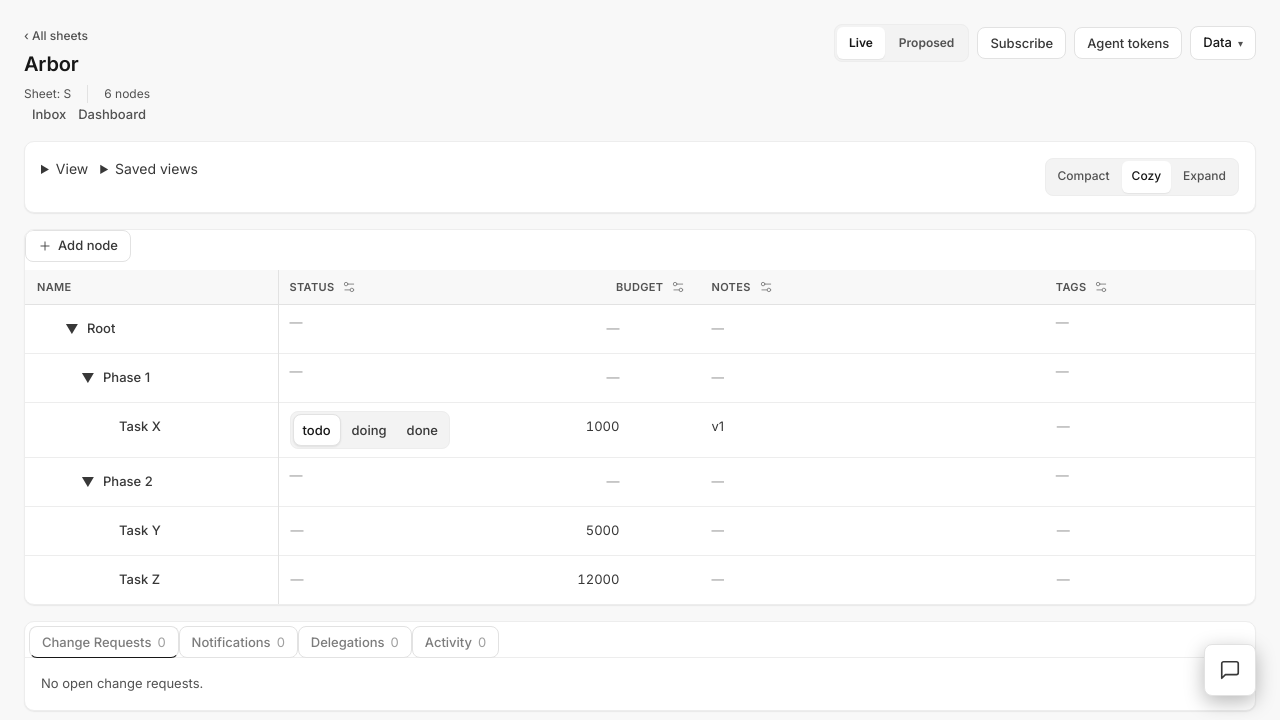
it: authoritative Outcome wins over client prediction (WEB_UI-020/-021/-086) › owners_must_use_change_requests → an owner's edit renders suggested to self (WEB_UI-021)
Expected: the table with test id "tree-table" is shown, [25,270,1255,604]
Click the element with test id "cell" showing "v1": (718, 426) [712,418,724,434]
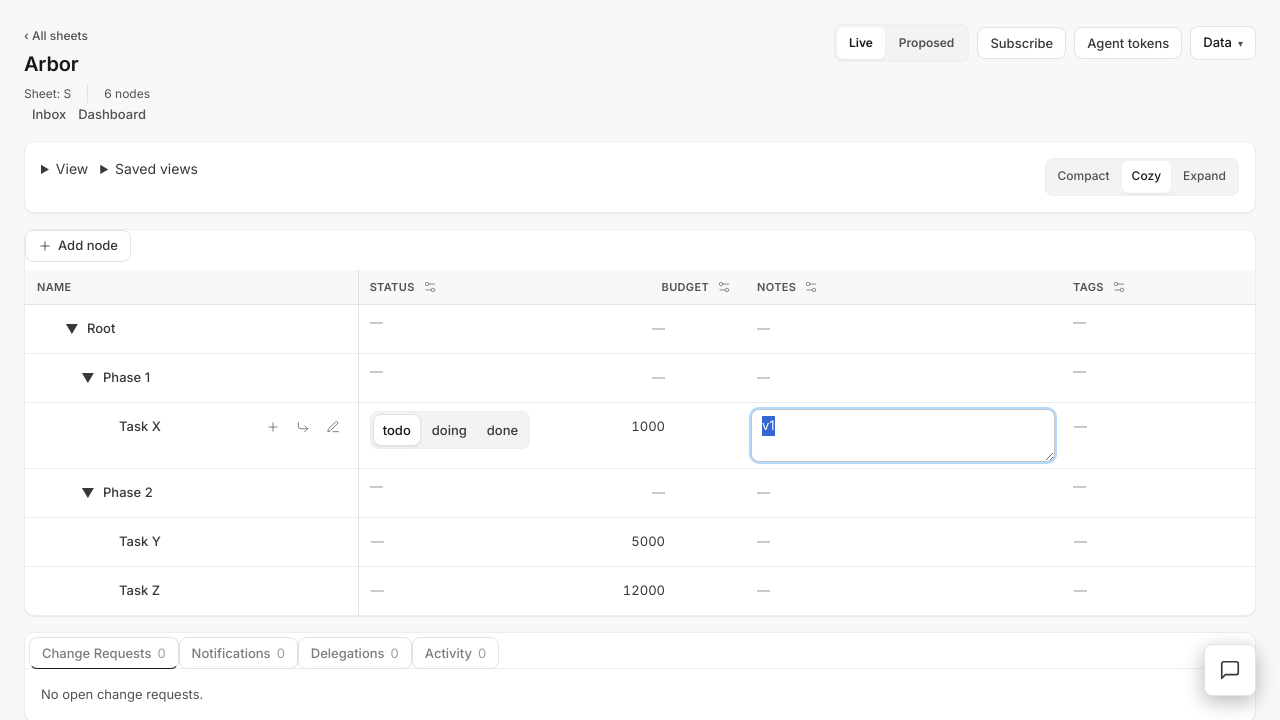
Replace the text in the text box with test id "cell-input" with "owner edit": (903, 436) [751,409,1055,462]
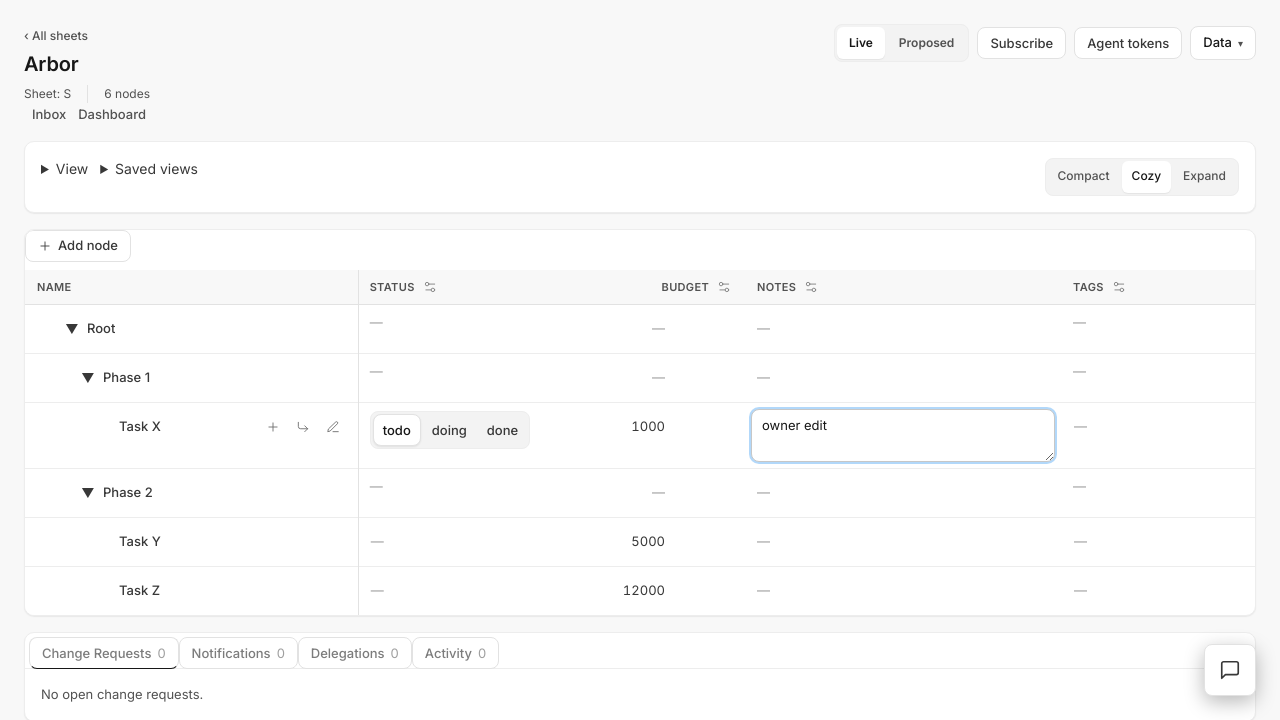
Leave the text box with test id "cell-input", box [751,409,1055,462]
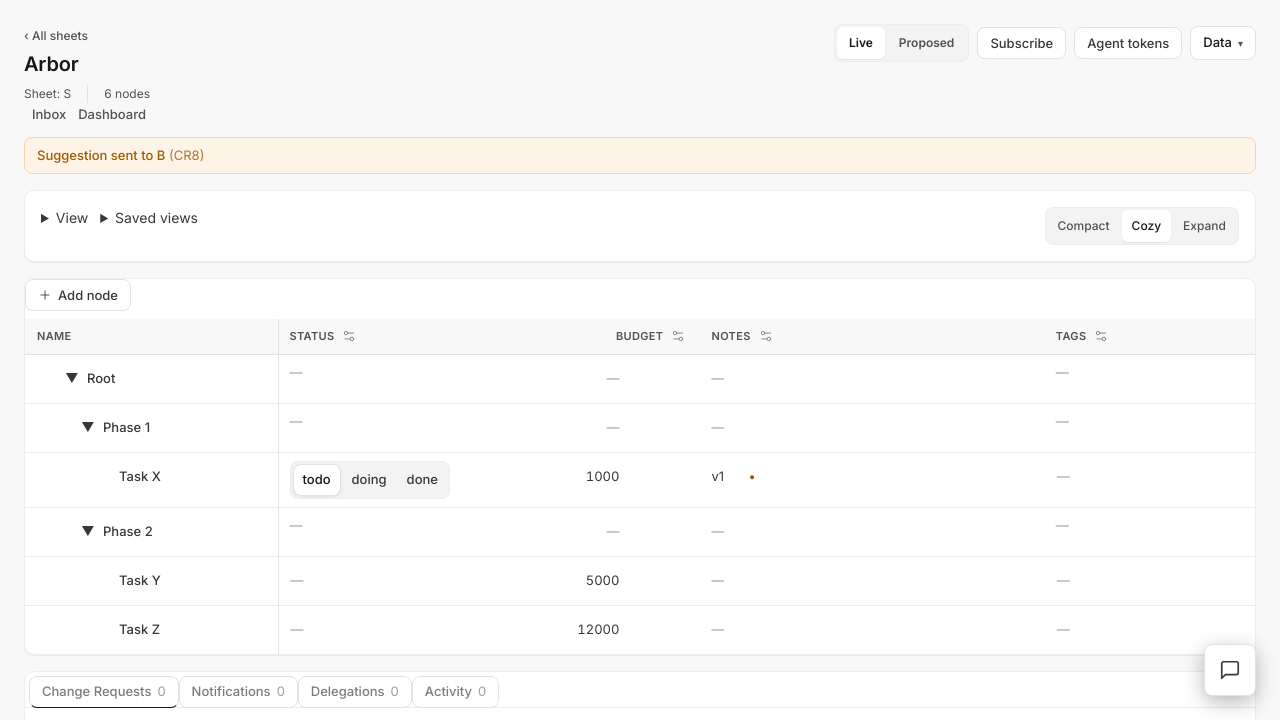
Expected: the message with test id "banner" shows "Suggestion sent to B", [37,146,165,162]
Expected: the element with test id "cell" shows "v1", [712,468,724,484]
